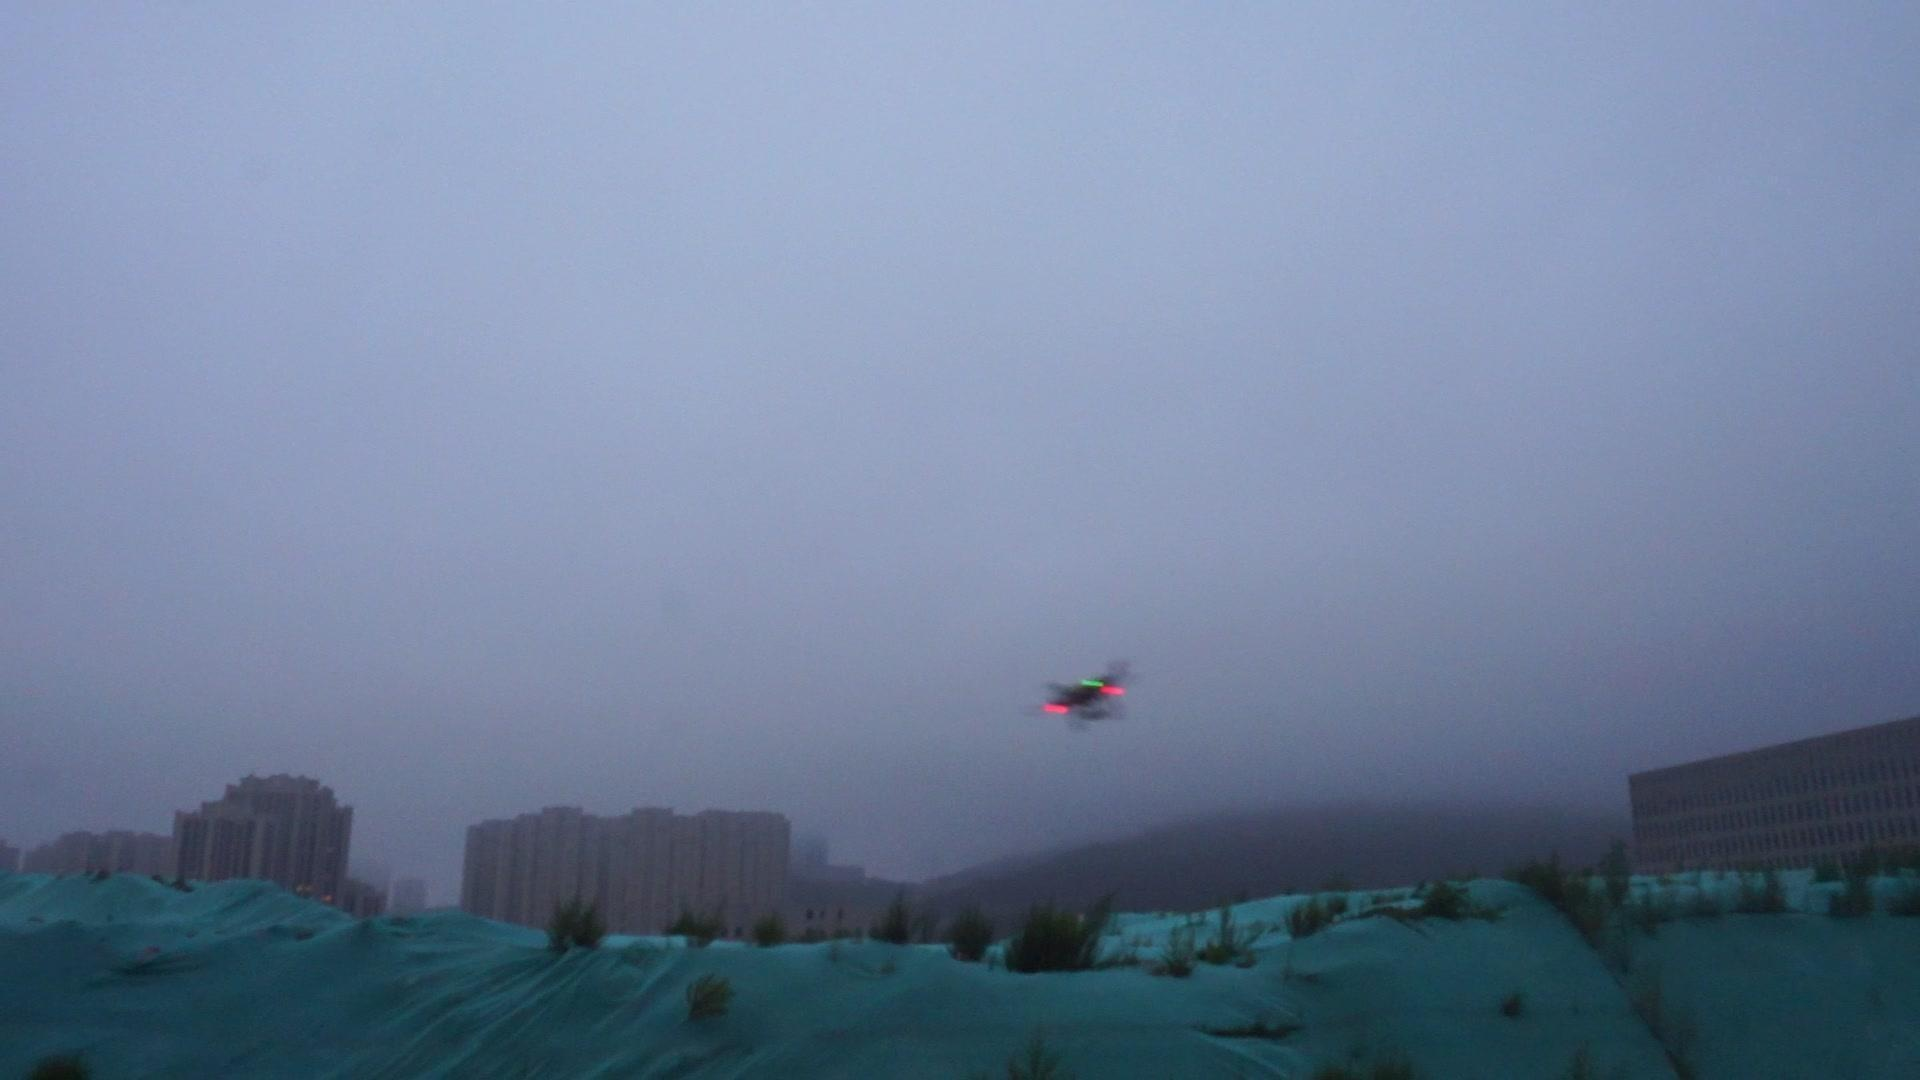UAV: (1021, 663, 1131, 721)
